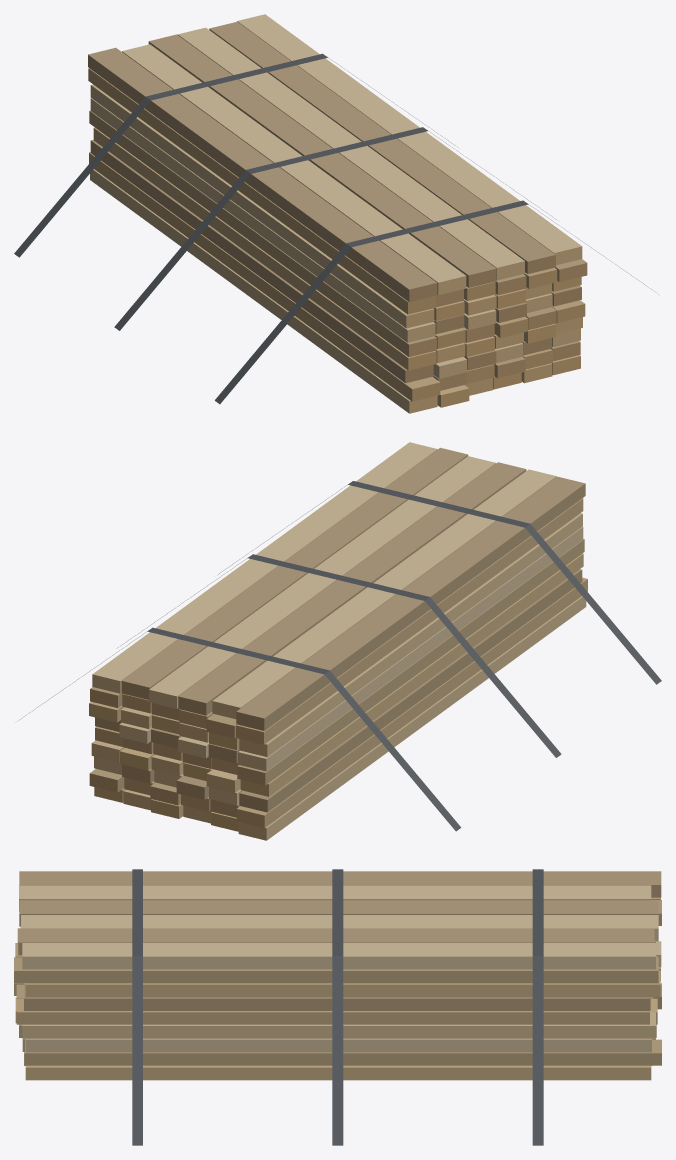
The model's file is lumber-bundle.glb.
3 views of the same model, one above another, from view 1: azimuth 30°, elevation 25°; view 2: azimuth 150°, elevation 25°; view 3: azimuth 270°, elevation 25° (orthographic).
Visible parts, largest first — view 1: LumberBundle_LumberFace, LumberBundle_LumberEnd, LumberBundle_LumberStrap; view 2: LumberBundle_LumberFace, LumberBundle_LumberEnd, LumberBundle_LumberStrap; view 3: LumberBundle_LumberFace, LumberBundle_LumberStrap.
Part boxes in pixels (x1,y1,x2,y2): LumberBundle_LumberFace: (88, 14, 586, 413); LumberBundle_LumberEnd: (405, 246, 587, 413); LumberBundle_LumberStrap: (14, 53, 658, 404); LumberBundle_LumberFace: (89, 442, 587, 840); LumberBundle_LumberEnd: (89, 674, 268, 840); LumberBundle_LumberStrap: (20, 481, 661, 831); LumberBundle_LumberFace: (14, 871, 661, 1080); LumberBundle_LumberStrap: (132, 869, 543, 1145).
Bounding box in the file's own units: 1.4 × 0.3794 × 1.78.
